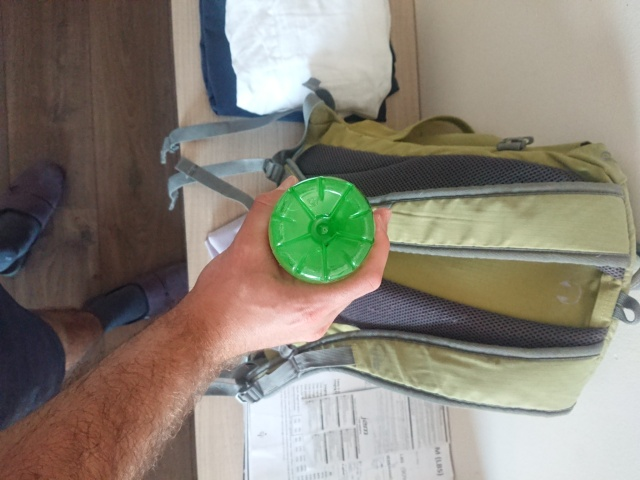Vindi Iso Sport Lemon-Grapefruit 500mL: (263, 172, 380, 288)
